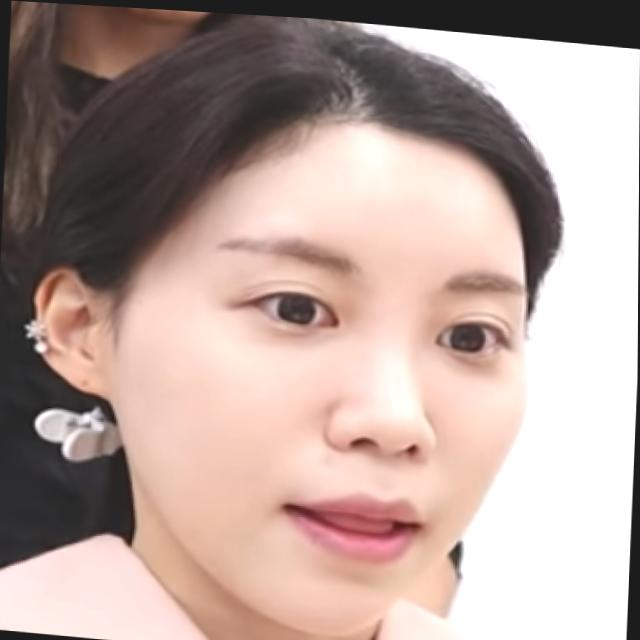face: (148, 50, 396, 318)
